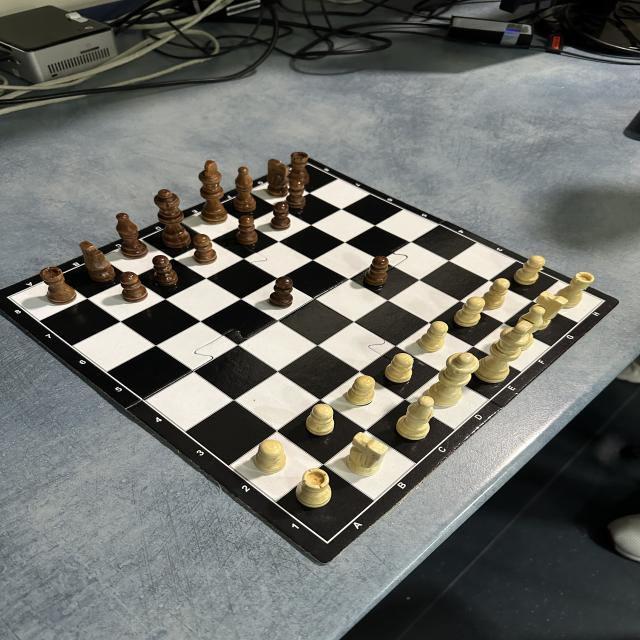Black-Bishop: (115, 213, 149, 259), (233, 166, 257, 212)
Black-King: (198, 160, 228, 225)
Black-Knight: (78, 241, 116, 282), (266, 159, 289, 198)
Black-Pawn: (119, 271, 148, 303), (152, 255, 179, 286), (364, 256, 390, 287), (270, 276, 294, 308), (193, 234, 217, 265), (236, 215, 258, 245), (286, 179, 306, 209), (270, 202, 291, 230)
Black-Queen: (153, 189, 192, 249)
Black-Rook: (39, 266, 77, 306), (289, 152, 310, 186)
White-Bishop: (396, 396, 434, 440), (518, 306, 545, 329)
White-King: (473, 320, 534, 383)
White-Knight: (347, 432, 389, 476), (535, 291, 569, 313)
White-Pawn: (254, 439, 286, 474), (513, 255, 546, 286), (305, 403, 335, 436), (418, 321, 449, 352), (481, 278, 511, 310), (454, 297, 486, 327), (346, 375, 376, 406), (384, 353, 414, 383)
White-Queen: (427, 352, 480, 407)
White-Rook: (295, 468, 333, 508), (556, 271, 594, 308)
